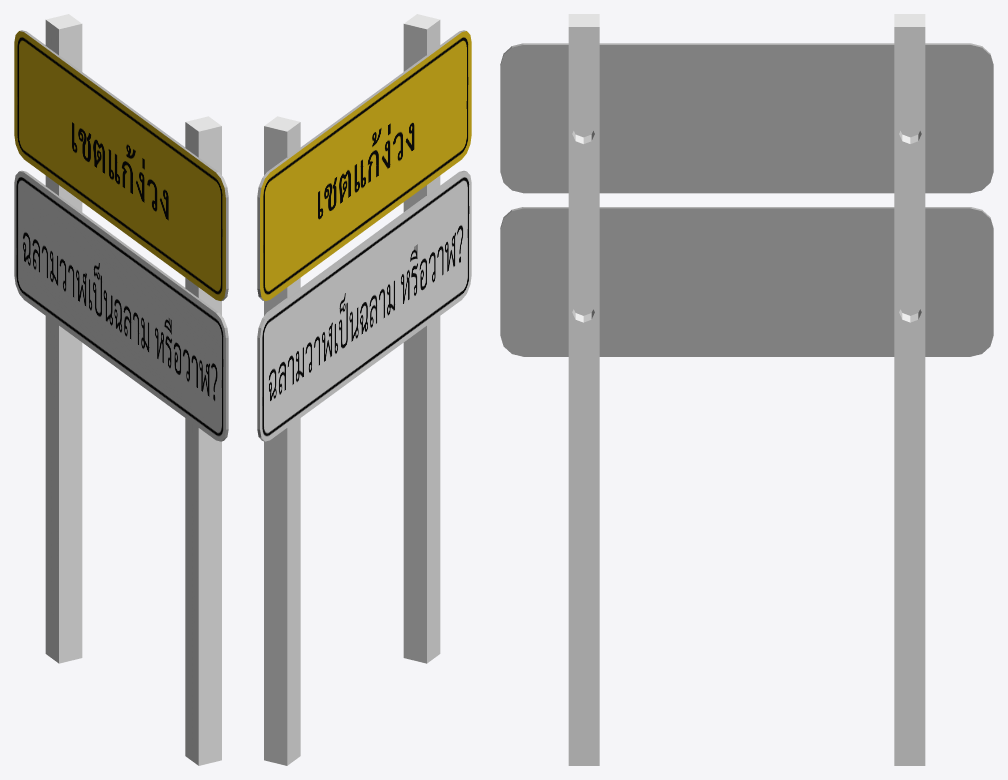
File: SETSLEEP1.glb
3 renders of one model, left to right at view 1: azimuth 30°, elevation 25°; view 2: azimuth 150°, elevation 25°; view 3: azimuth 270°, elevation 25°, orthographic. The views are drawn at different scales.
Parts seen in each view (by area): view 1: Plane, Cube; view 2: Plane, Cube; view 3: Plane, Cube.
Boxes of the visible parts, x1=… form: Plane: x1=14, y1=30, x2=228, y2=441; Cube: x1=45, y1=14, x2=221, y2=765; Plane: x1=257, y1=30, x2=471, y2=441; Cube: x1=264, y1=14, x2=440, y2=765; Plane: x1=500, y1=43, x2=993, y2=356; Cube: x1=568, y1=14, x2=925, y2=765.
Size of the model in its own units: 0.3934 by 9.42 by 5.7.
2 materials, 1 textured.
